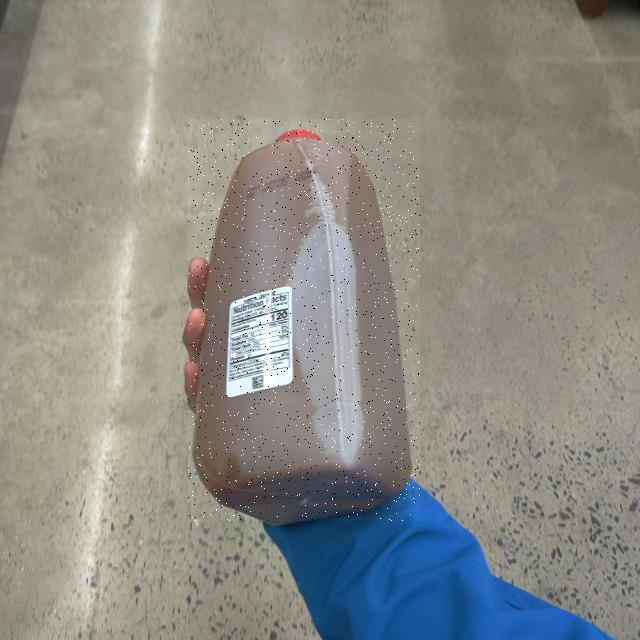Juice: (188, 119, 420, 521)
